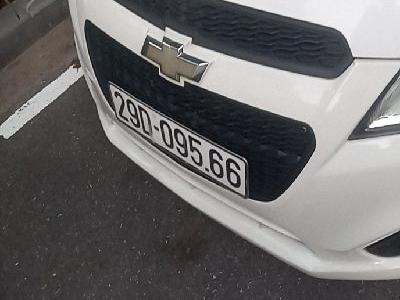number: (108, 82, 248, 202)
